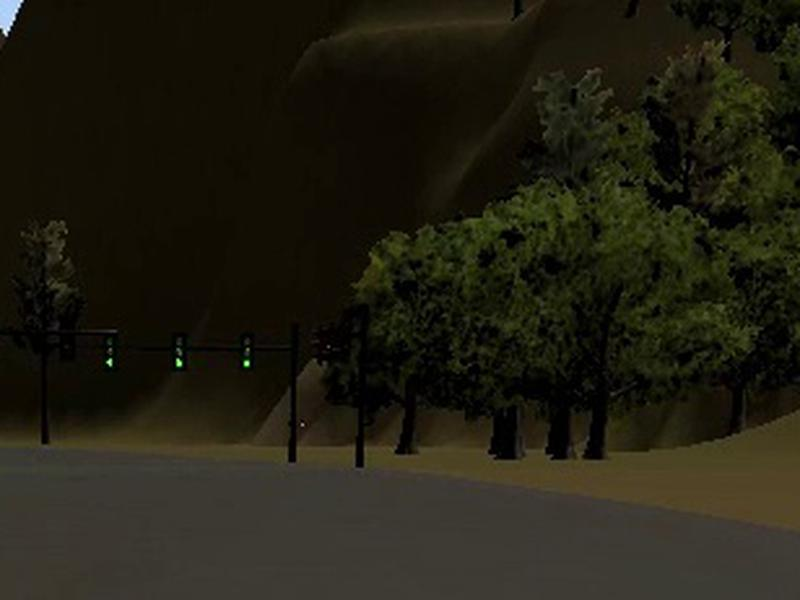Green: (238, 335, 256, 370), (171, 334, 188, 371), (102, 337, 120, 370)
